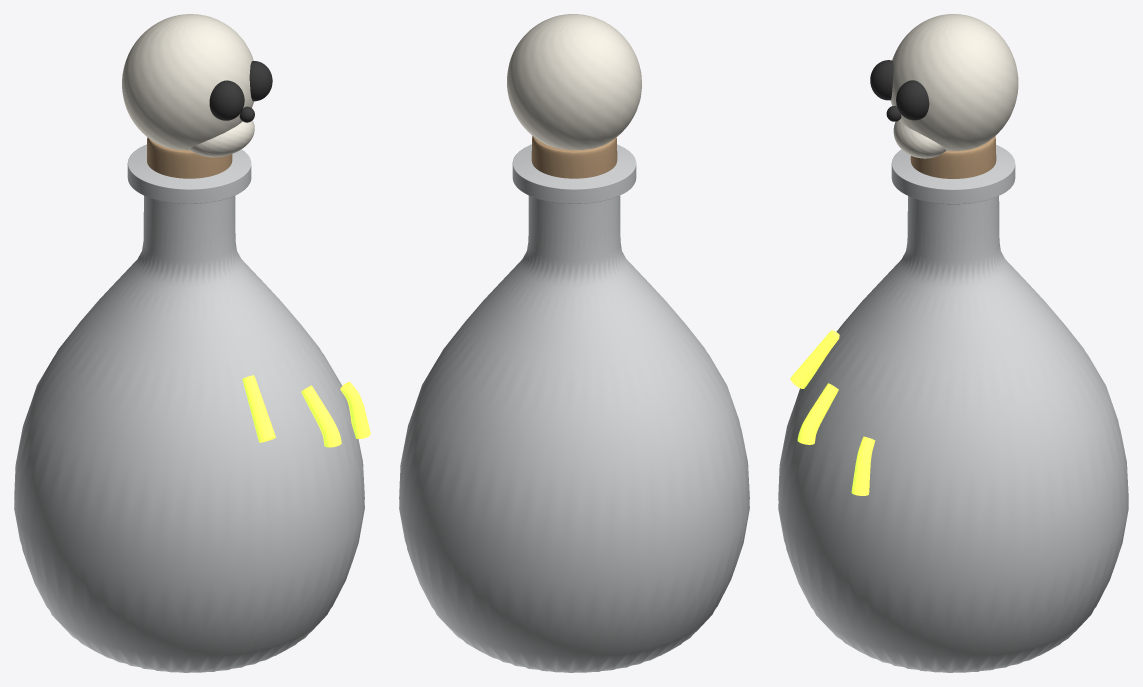
The model's file is poisonflask.glb.
3 views of the same model, side by side, from view 1: azimuth 30°, elevation 25°; view 2: azimuth 150°, elevation 25°; view 3: azimuth 270°, elevation 25° (orthographic).
Parts seen in each view (by area): view 1: PoisonFlask_Glass, PoisonFlask_Skull, PoisonFlask_Cork, PoisonFlask_SkullJaw, PoisonFlask_SkullEye.001, PoisonFlask_Drip, PoisonFlask_Drip.001, PoisonFlask_Drip.002, PoisonFlask_SkullEye; view 2: PoisonFlask_Glass, PoisonFlask_Skull, PoisonFlask_Cork; view 3: PoisonFlask_Glass, PoisonFlask_Skull, PoisonFlask_Cork, PoisonFlask_SkullJaw, PoisonFlask_SkullEye, PoisonFlask_Drip.001, PoisonFlask_Drip, PoisonFlask_Drip.002, PoisonFlask_SkullEye.001.
Part boxes in pixels (box(x1,y1,x2,y2)): PoisonFlask_Glass: box(14, 144, 364, 672); PoisonFlask_Skull: box(122, 14, 253, 150); PoisonFlask_Cork: box(146, 137, 232, 178); PoisonFlask_SkullJaw: box(189, 120, 254, 157); PoisonFlask_SkullEye.001: box(209, 80, 244, 120); PoisonFlask_Drip: box(242, 375, 275, 442); PoisonFlask_Drip.001: box(301, 385, 341, 447); PoisonFlask_Drip.002: box(340, 382, 370, 438); PoisonFlask_SkullEye: box(249, 61, 272, 101); PoisonFlask_Glass: box(399, 144, 749, 672); PoisonFlask_Skull: box(507, 14, 641, 149); PoisonFlask_Cork: box(531, 136, 617, 178); PoisonFlask_Glass: box(778, 145, 1128, 672); PoisonFlask_Skull: box(890, 14, 1018, 150); PoisonFlask_Cork: box(910, 136, 996, 178); PoisonFlask_SkullJaw: box(893, 120, 946, 158); PoisonFlask_SkullEye: box(896, 80, 929, 120); PoisonFlask_Drip.001: box(797, 383, 838, 444); PoisonFlask_Drip: box(790, 330, 839, 388); PoisonFlask_Drip.002: box(851, 436, 875, 495); PoisonFlask_SkullEye.001: box(870, 60, 893, 100).
Size of the model in its own units: 1.3 by 2.54 by 1.3.
